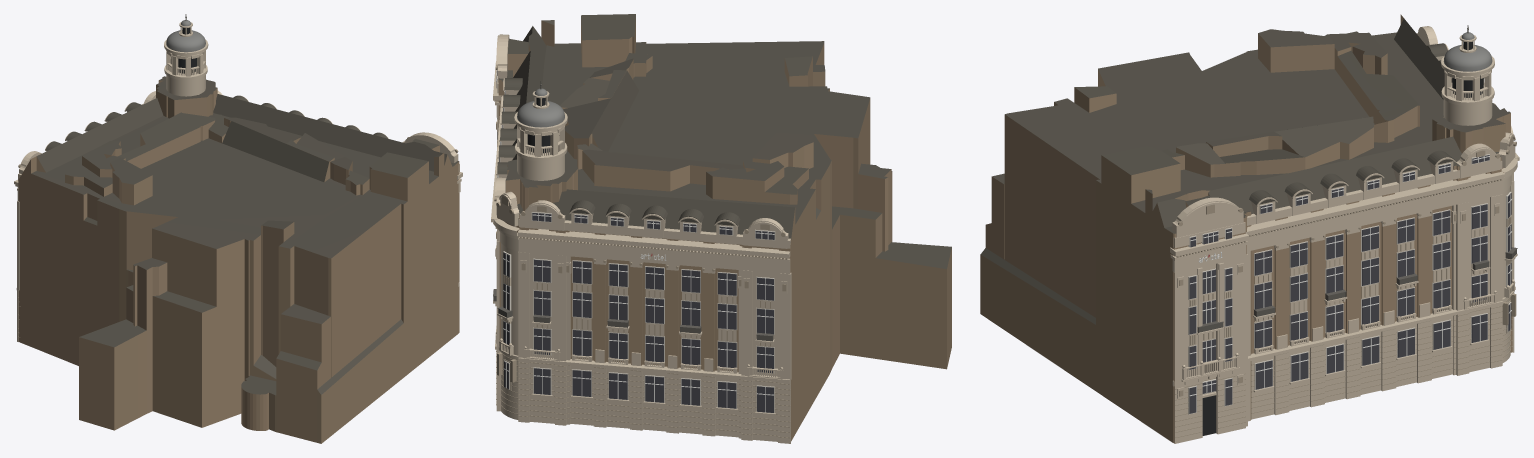
File: lloyd-prins-hendrikkade-33.glb
3 views of the same model, side by side, from view 1: azimuth 30°, elevation 25°; view 2: azimuth 150°, elevation 25°; view 3: azimuth 270°, elevation 25° (orthographic). The views are drawn at different scales.
Parts seen in each view (by area): view 1: lloyd-prins-hendrikkade-33; view 2: lloyd-prins-hendrikkade-33; view 3: lloyd-prins-hendrikkade-33.
Boxes of the visible parts, left/top/right/bottom form: lloyd-prins-hendrikkade-33: left=14, top=14, right=462, bottom=443; lloyd-prins-hendrikkade-33: left=491, top=14, right=951, bottom=443; lloyd-prins-hendrikkade-33: left=980, top=14, right=1519, bottom=443.
Size of the model in its own units: 49.38 by 33.41 by 49.86.
